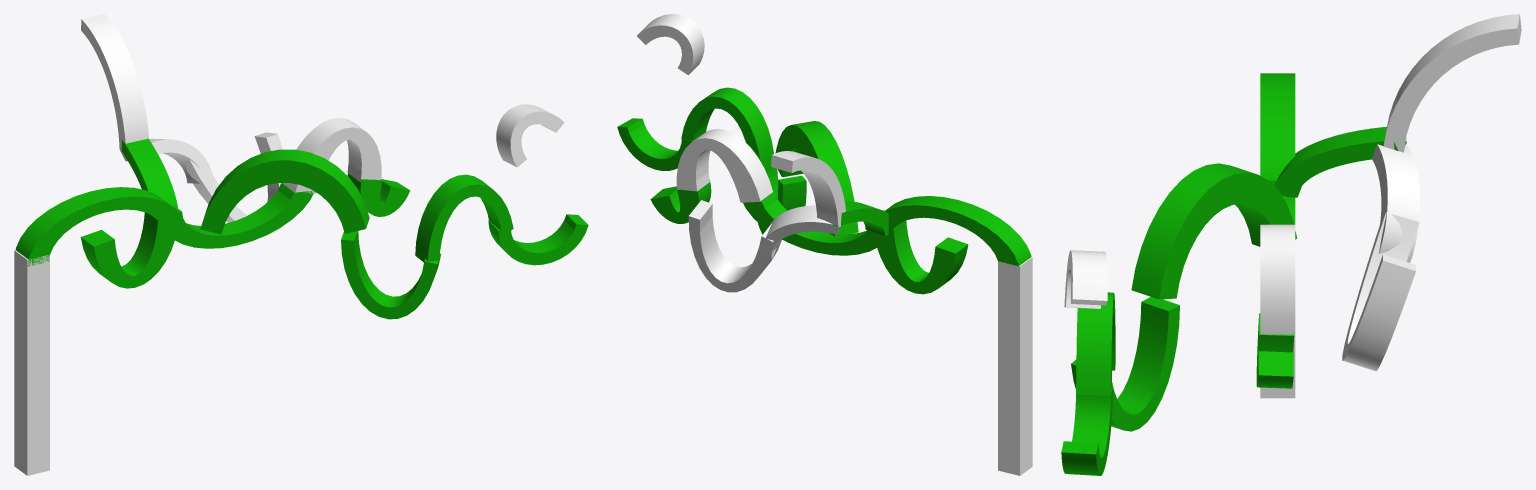
Rendered from Vine 1.fbx.
The picture shows the model from 3 angles, left to right: view 1: azimuth 30°, elevation 25°; view 2: azimuth 150°, elevation 25°; view 3: azimuth 270°, elevation 25°; orthographic projection. The views are drawn at different scales.
Parts seen in each view (by area): view 1: Cube__1_, Arch__6_, Arch, Arch__5_, Arch__1_, Arch__2_, Arch__15_, Arch__7_, Arch__3_, Arch__16_, Arch__17_, Arch__4_ (+3 smaller); view 2: Cube__1_, Arch__3_, Arch, Arch__2_, Arch__9_, Arch__15_, Arch__6_, Arch__1_, Arch__5_, Arch__17_, Arch__16_, Arch__8_ (+3 smaller); view 3: Arch__6_, Arch__9_, Arch__7_, Arch__5_, Arch__3_, Arch, Arch__8_, Arch__15_, Arch__4_, Arch__16_, Arch__17_, Arch__19_ (+1 smaller).
Boxes of the visible parts, left/top/right/bottom form: Cube__1_: left=14, top=250, right=49, bottom=475; Arch__6_: left=200, top=149, right=369, bottom=234; Arch: left=15, top=187, right=182, bottom=266; Arch__5_: left=81, top=14, right=149, bottom=151; Arch__1_: left=161, top=183, right=313, bottom=248; Arch__2_: left=80, top=212, right=179, bottom=288; Arch__15_: left=415, top=174, right=513, bottom=262; Arch__7_: left=341, top=231, right=441, bottom=319; Arch__3_: left=282, top=117, right=381, bottom=193; Arch__16_: left=488, top=214, right=588, bottom=265; Arch__17_: left=496, top=104, right=564, bottom=167; Arch__4_: left=121, top=138, right=177, bottom=208; Cube__1_: left=998, top=257, right=1032, bottom=475; Arch__3_: left=676, top=128, right=772, bottom=202; Arch: left=885, top=196, right=1031, bottom=267; Arch__2_: left=877, top=220, right=968, bottom=294; Arch__9_: left=688, top=200, right=782, bottom=292; Arch__15_: left=681, top=87, right=773, bottom=172; Arch__6_: left=775, top=121, right=858, bottom=236; Arch__1_: left=743, top=192, right=890, bottom=255; Arch__5_: left=771, top=151, right=845, bottom=227; Arch__17_: left=637, top=14, right=704, bottom=75; Arch__16_: left=617, top=118, right=698, bottom=170; Arch__8_: left=760, top=205, right=840, bottom=260; Arch__6_: left=1131, top=163, right=1296, bottom=299; Arch__9_: left=1342, top=212, right=1418, bottom=371; Arch__7_: left=1071, top=297, right=1179, bottom=431; Arch__5_: left=1383, top=14, right=1521, bottom=152; Arch__3_: left=1260, top=224, right=1295, bottom=334; Arch: left=1260, top=73, right=1295, bottom=178; Arch__8_: left=1372, top=144, right=1420, bottom=262; Arch__15_: left=1076, top=292, right=1115, bottom=395; Arch__4_: left=1274, top=126, right=1406, bottom=197; Arch__16_: left=1061, top=386, right=1113, bottom=475; Arch__17_: left=1064, top=250, right=1107, bottom=308; Arch__19_: left=1256, top=313, right=1294, bottom=388.
Bounding box in the file's own units: 2159 × 1472 × 1310.
